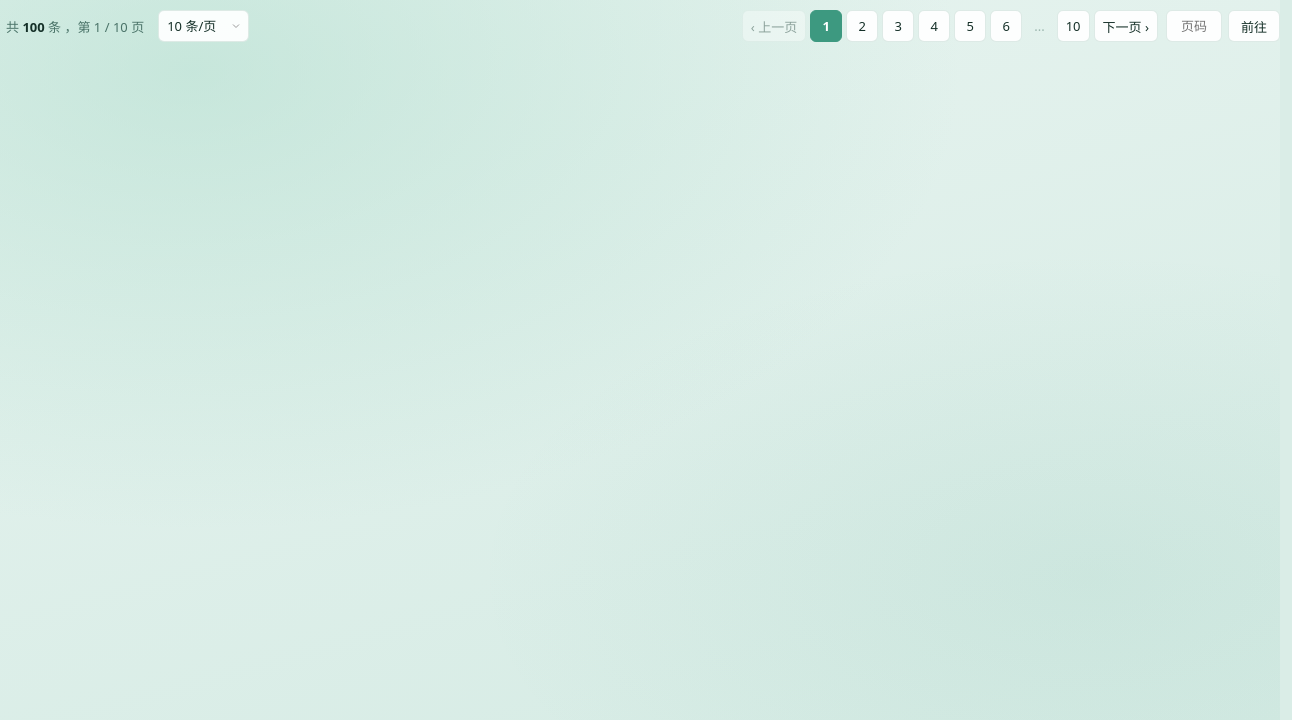
Test case: PaginationBar › 输入验证 › 非数字输入显示"请输入有效的数字"
Type "abc" into the field with placeholder "页码" at (1194, 26), box [1166,10,1222,42]
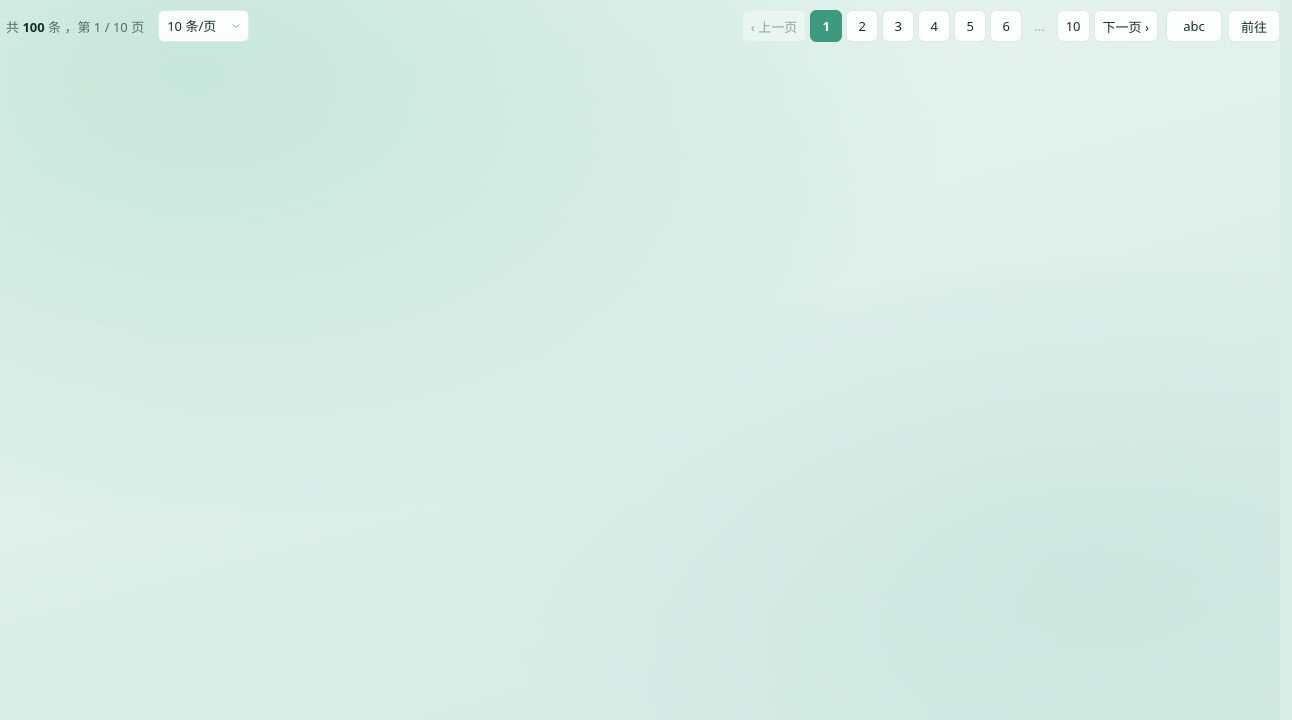
Click the button "前往" at (1254, 26), box [1228,10,1280,42]
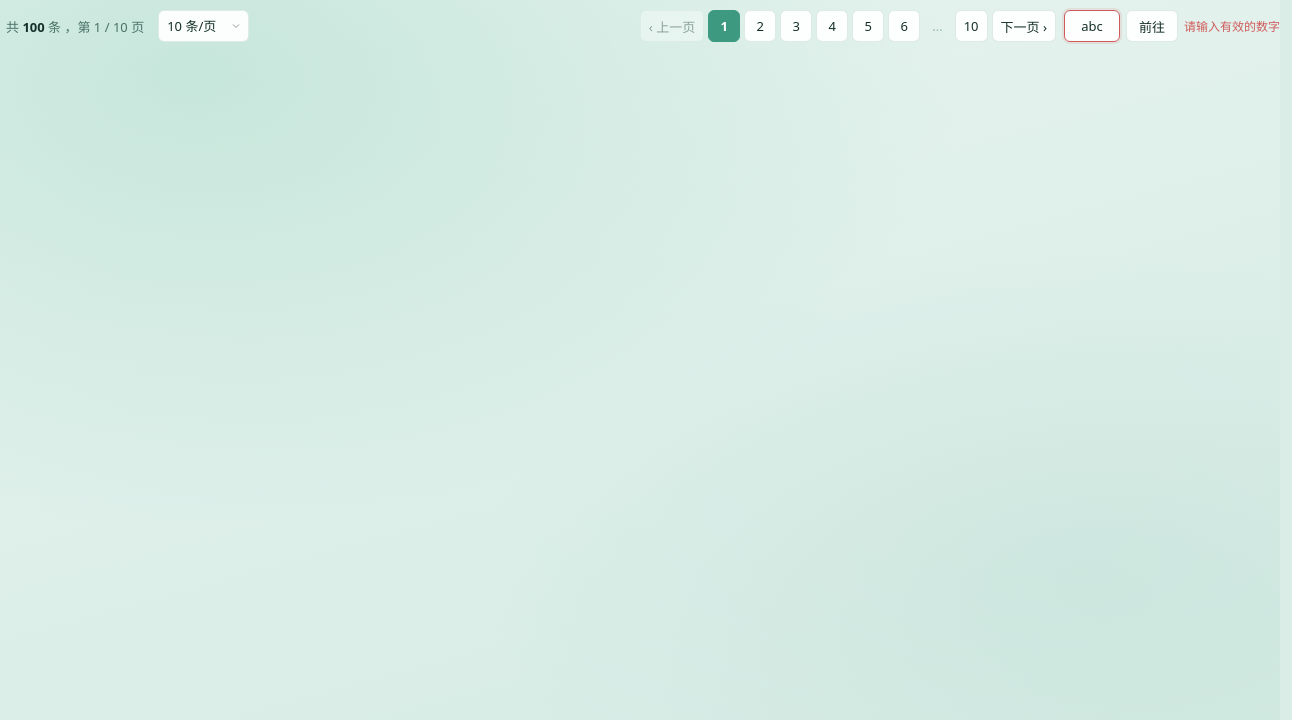
Result: the message with class "jump-error" reads "请输入有效的数字" at [1184,18,1280,35]
